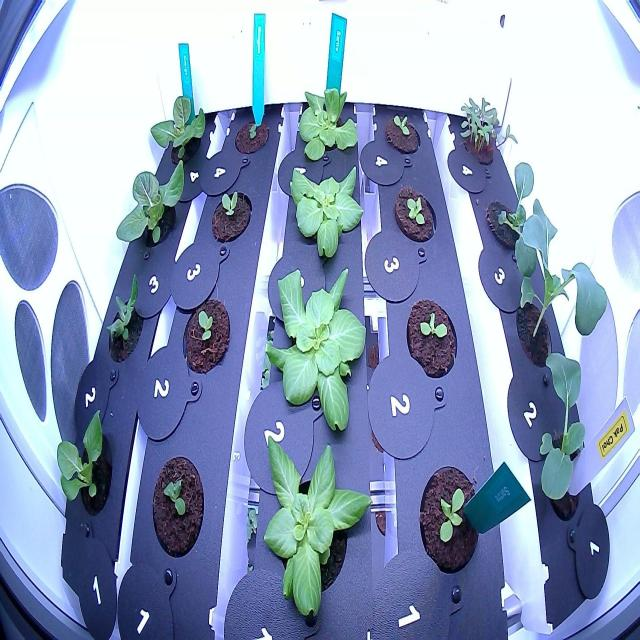germination: (144, 448, 210, 572), (401, 289, 465, 390), (178, 289, 236, 383), (388, 177, 443, 251), (205, 180, 257, 251), (376, 96, 426, 164), (227, 106, 274, 164)
young: (250, 423, 384, 630), (254, 248, 375, 448), (274, 153, 372, 268), (412, 452, 487, 586), (50, 400, 118, 522), (113, 152, 191, 256), (288, 74, 366, 175), (144, 82, 210, 179), (100, 260, 147, 366)
